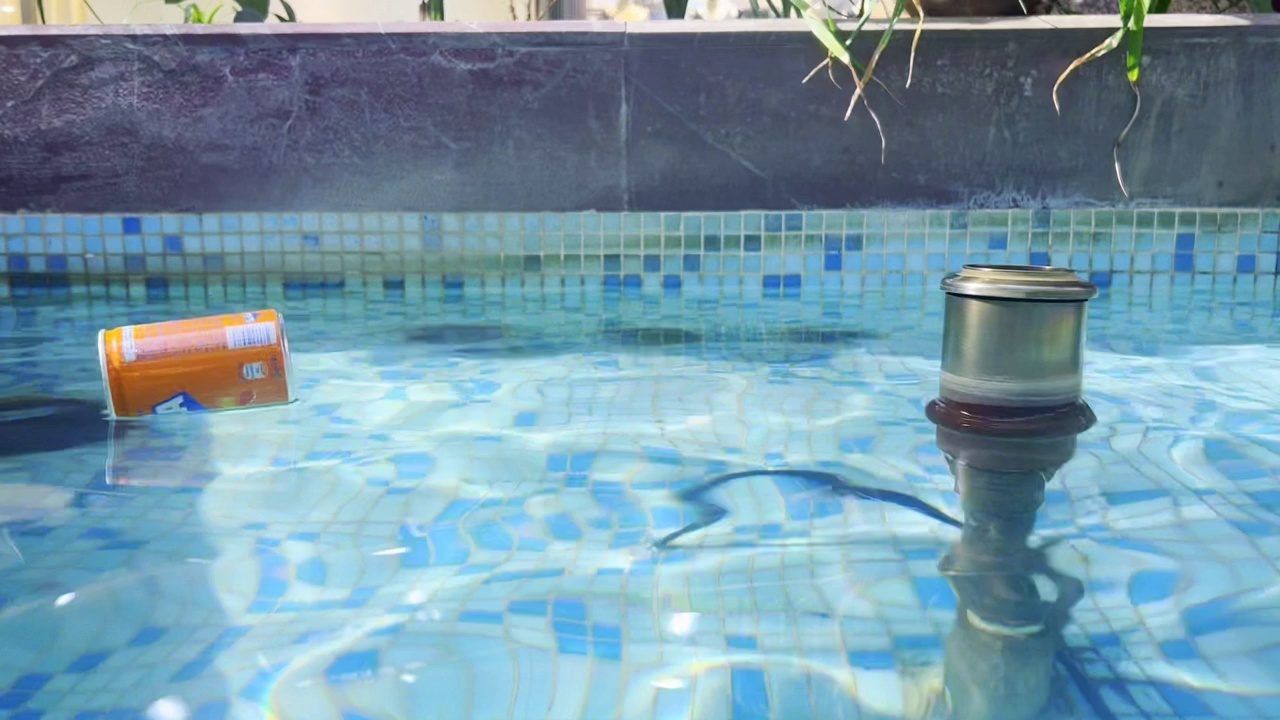debris: (88, 304, 303, 424)
